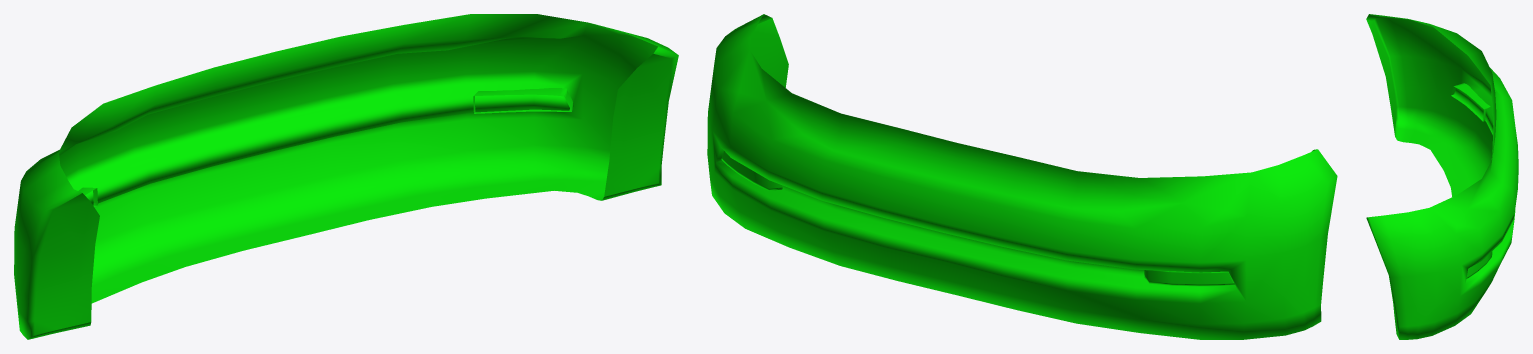
Rendered from Accent_V2_Rear_Bumper.fbx.
3 renders of one model, left to right at view 1: azimuth 30°, elevation 25°; view 2: azimuth 150°, elevation 25°; view 3: azimuth 270°, elevation 25°, orthographic. The views are drawn at different scales.
Visible parts, largest first — view 1: Accent_V2_Rear_Bumper; view 2: Accent_V2_Rear_Bumper; view 3: Accent_V2_Rear_Bumper.
Boxes of the visible parts, x1,y1,x2,y2 form: Accent_V2_Rear_Bumper: [14, 14, 678, 339]; Accent_V2_Rear_Bumper: [707, 14, 1337, 339]; Accent_V2_Rear_Bumper: [1366, 14, 1518, 339].
Bounding box in the file's own units: 31.75 × 7.83 × 9.27.
